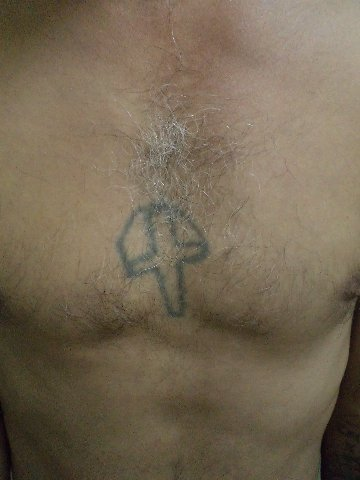tatu9_krest: (132, 206, 210, 327)
